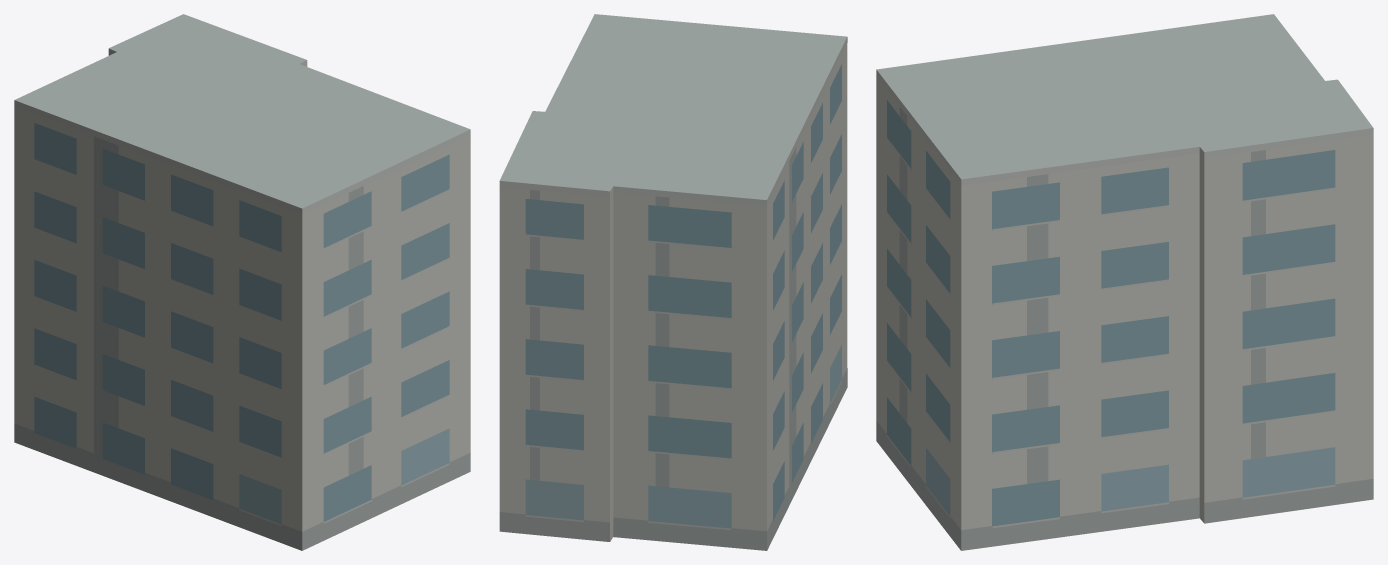
The model's file is survey-upis-32849060.glb.
The picture shows the model from 3 angles, left to right: view 1: azimuth 30°, elevation 25°; view 2: azimuth 150°, elevation 25°; view 3: azimuth 270°, elevation 25°; orthographic projection. The views are drawn at different scales.
Parts seen in each view (by area): view 1: survey-upis-32849060.tmp; view 2: survey-upis-32849060.tmp; view 3: survey-upis-32849060.tmp.
Boxes of the visible parts, left/top/right/bottom form: survey-upis-32849060.tmp: left=14, top=14, right=470, bottom=550; survey-upis-32849060.tmp: left=499, top=14, right=847, bottom=550; survey-upis-32849060.tmp: left=876, top=14, right=1373, bottom=550.
Bounding box in the file's own units: 13.04 × 13.65 × 16.56.
